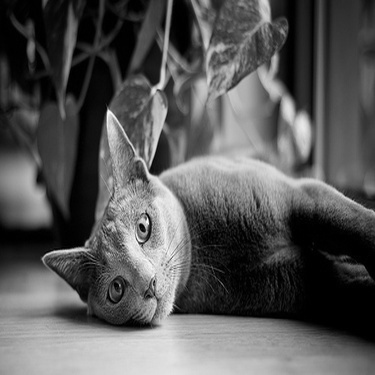cat: (38, 105, 372, 330)
